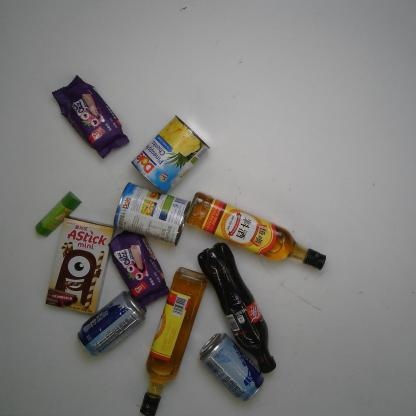Alcohol: (76, 290, 148, 356), (199, 332, 265, 402)
Canned Food: (131, 115, 210, 194), (113, 181, 191, 247)
Dessert: (45, 215, 116, 315), (50, 74, 130, 161), (107, 230, 170, 309)
Drink: (197, 242, 276, 374)
Seasoner: (184, 192, 326, 270), (139, 266, 208, 416)
Stationery: (35, 191, 82, 237)
